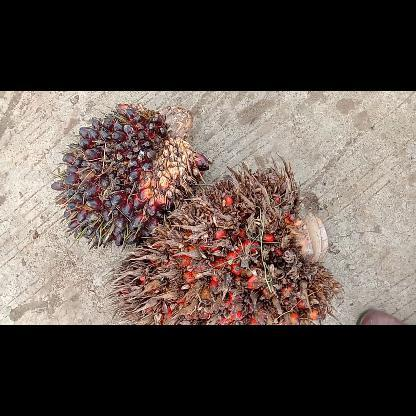TBS mentah: (52, 103, 209, 247)
Terlalu masak: (106, 152, 342, 324)
